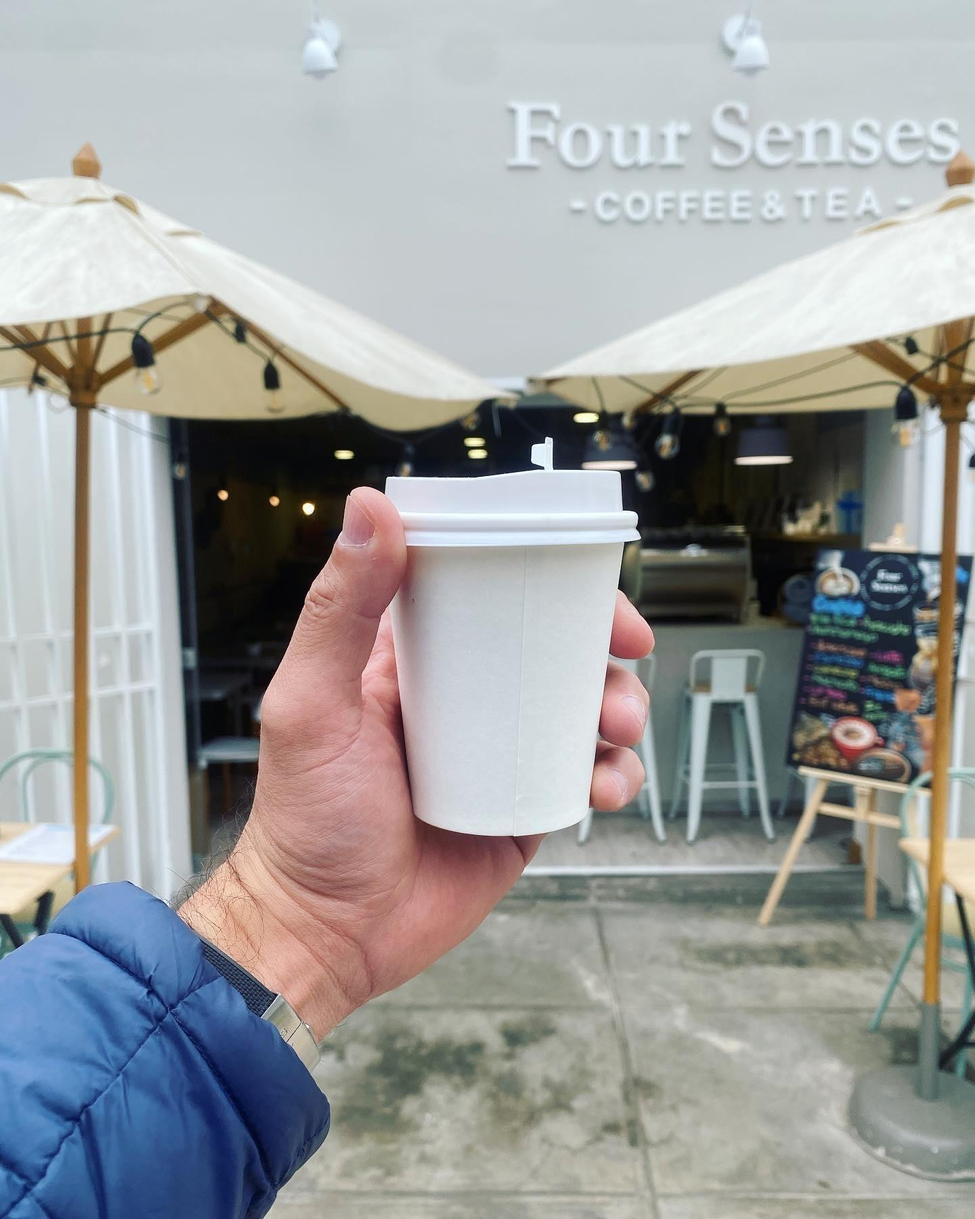cup-disposable: (374, 461, 643, 853)
